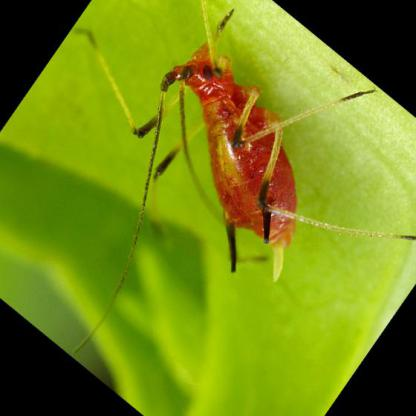uroleucon compositae: (125, 11, 300, 283)
